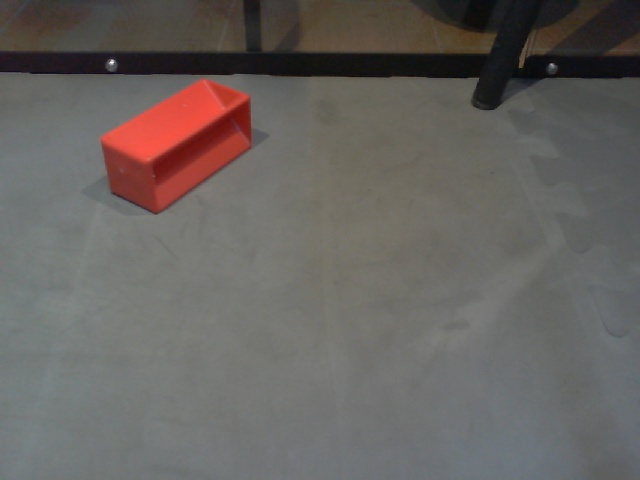RedSample: (100, 78, 254, 216)
